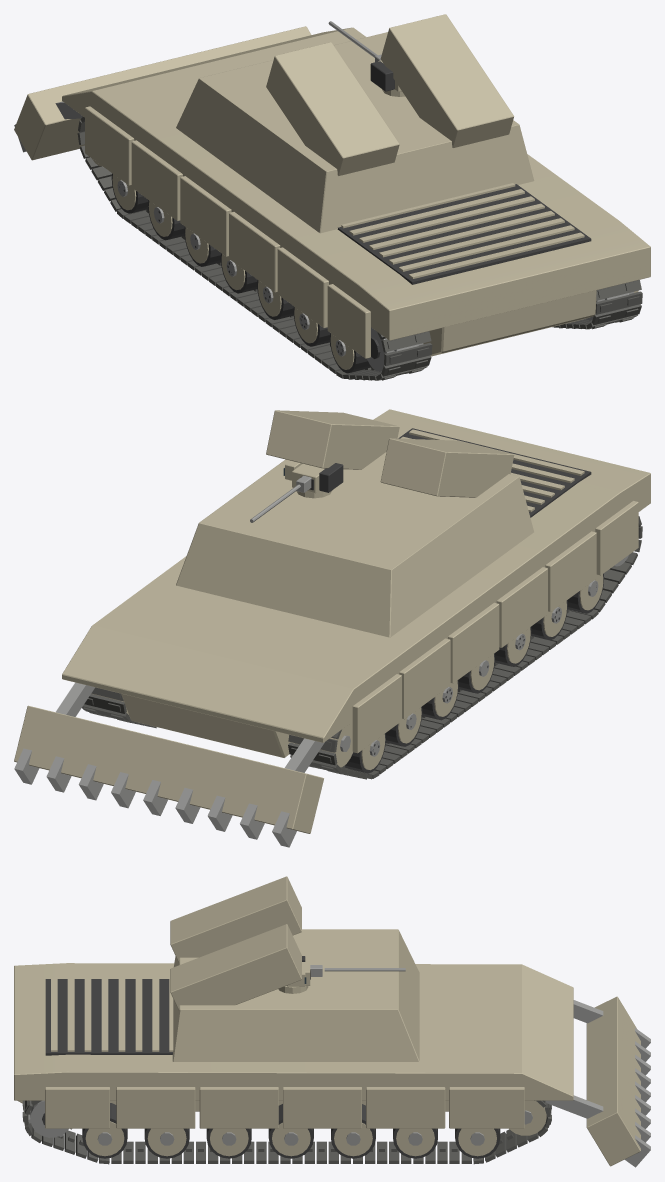
Rendered from usa_eng_abv.glb.
3 views of the same model, one above another, from view 1: azimuth 30°, elevation 25°; view 2: azimuth 150°, elevation 25°; view 3: azimuth 270°, elevation 25° (orthographic). The views are drawn at different scales.
Visible parts, largest first — view 1: body, turret, barrel; view 2: body, turret, barrel; view 3: body, turret, barrel.
Part boxes in pixels (box(x1,y1,x2,y2)): body: box(14, 26, 650, 380); turret: box(176, 21, 534, 233); barrel: box(266, 14, 514, 175); body: box(14, 409, 650, 847); turret: box(176, 452, 533, 637); barrel: box(266, 410, 514, 497); body: box(14, 963, 650, 1167); turret: box(172, 929, 419, 1061); barrel: box(170, 876, 301, 1010).
Bounding box in the file's own units: 3.9 × 3.13 × 9.03.
